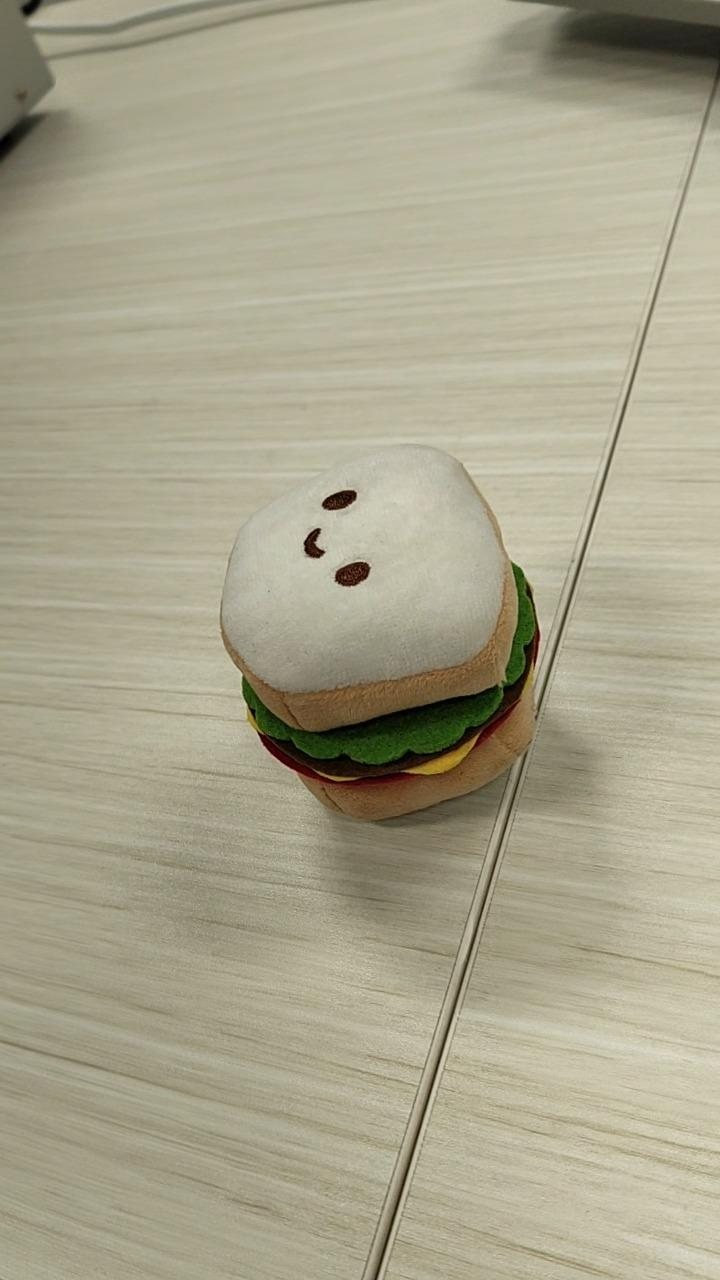objects: (218, 440, 541, 822)
